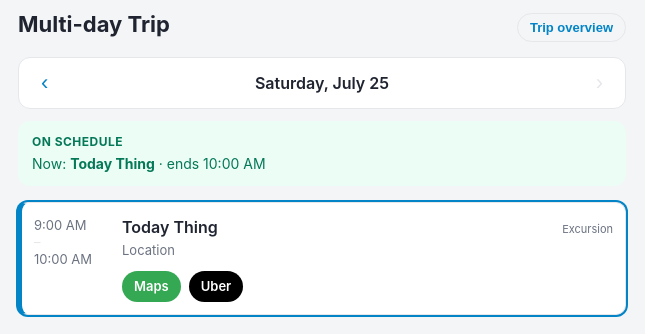
Test: App › jumps back to today via the Today button after browsing away
What coordinates should you click on to do the following:
click the button named "Previous day"
I would click on:
 (45, 83)
Its box is [31,66,58,100].
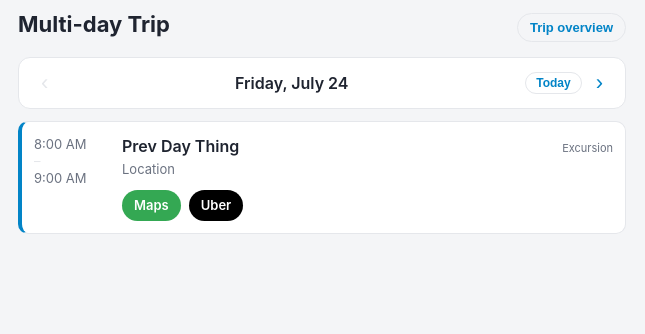
What coordinates should you click on to do the following:
click the button with aria-label "Jump to today"
I would click on:
 (553, 83)
Its box is [525,72,582,94].
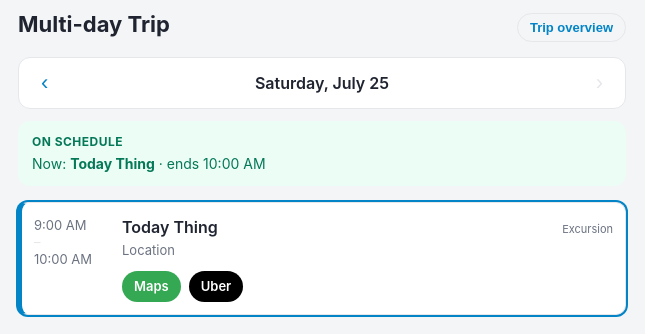
expect the text "On schedule" is shown: met, box [32,134,123,149]
